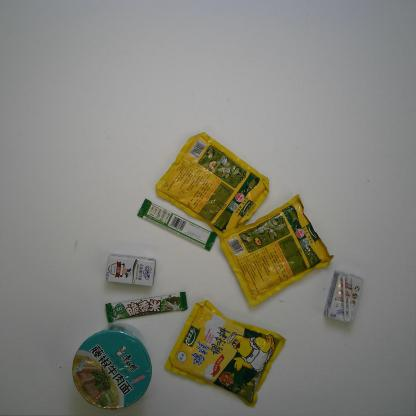Chocolate: (136, 198, 218, 252), (105, 290, 188, 323)
Instant Noodles: (72, 323, 152, 410)
Milk: (323, 270, 364, 325), (105, 252, 157, 286)
Seasoner: (164, 300, 287, 408), (219, 194, 334, 308), (155, 131, 270, 239)
